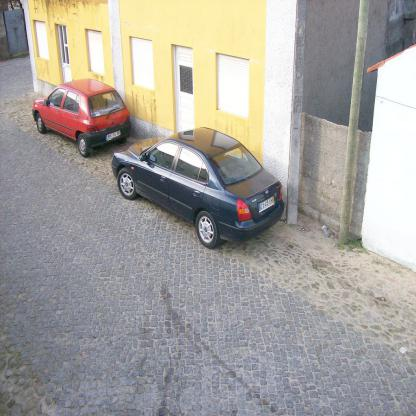Car: (110, 121, 286, 252), (34, 75, 132, 155)
